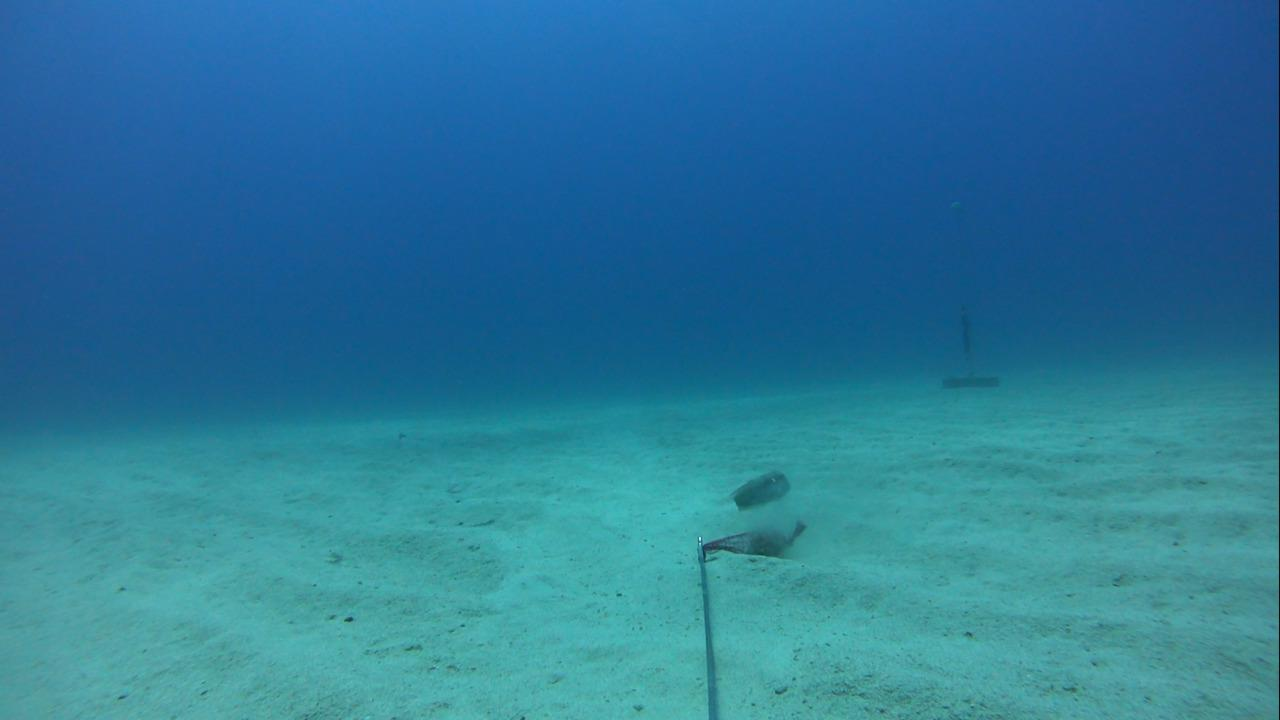raor: (725, 464, 800, 514)
